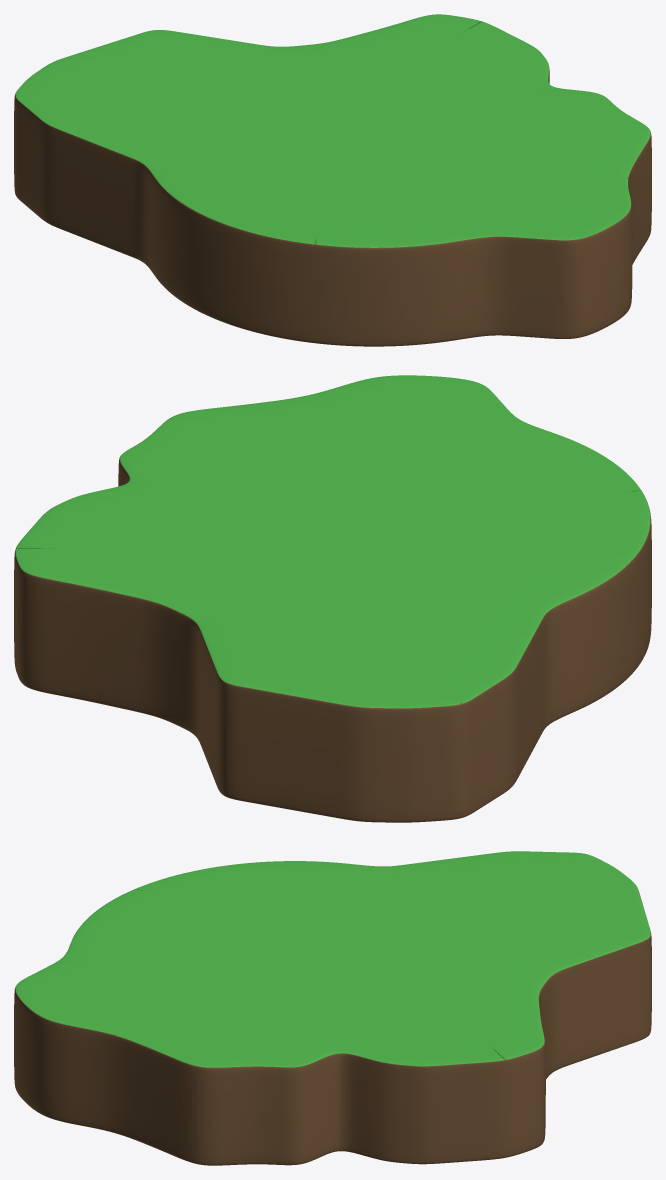
File: terrain.glb
3 renders of one model, top to bottom at view 1: azimuth 30°, elevation 25°; view 2: azimuth 150°, elevation 25°; view 3: azimuth 270°, elevation 25°, orthographic. The views are drawn at different scales.
Visible parts, largest first — view 1: Cylinder; view 2: Cylinder; view 3: Cylinder.
Boxes of the visible parts, left/top/right/bottom form: Cylinder: left=14, top=14, right=651, bottom=346; Cylinder: left=14, top=375, right=651, bottom=822; Cylinder: left=14, top=851, right=651, bottom=1165.
Size of the model in its own units: 23.55 by 5.1 by 29.21.
Materials: 1 (1 with a texture image).
